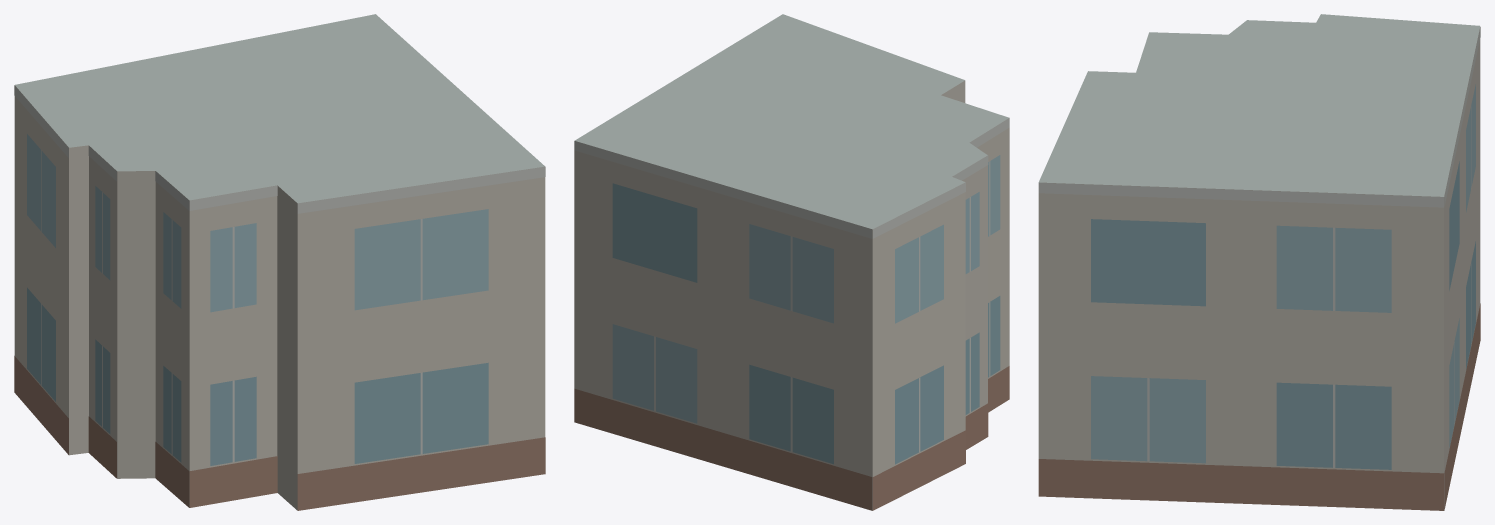
Rendered from survey-upis-32511766.glb.
3 views of the same model, side by side, from view 1: azimuth 30°, elevation 25°; view 2: azimuth 150°, elevation 25°; view 3: azimuth 270°, elevation 25° (orthographic). The views are drawn at different scales.
Visible parts, largest first — view 1: survey-upis-32511766.tmp; view 2: survey-upis-32511766.tmp; view 3: survey-upis-32511766.tmp.
Part boxes in pixels (x1,y1,x2,y2): survey-upis-32511766.tmp: [14, 14, 545, 510]; survey-upis-32511766.tmp: [574, 14, 1009, 510]; survey-upis-32511766.tmp: [1038, 14, 1480, 510].
Bounding box in the file's own units: 8.88 × 7.1 × 9.07.
